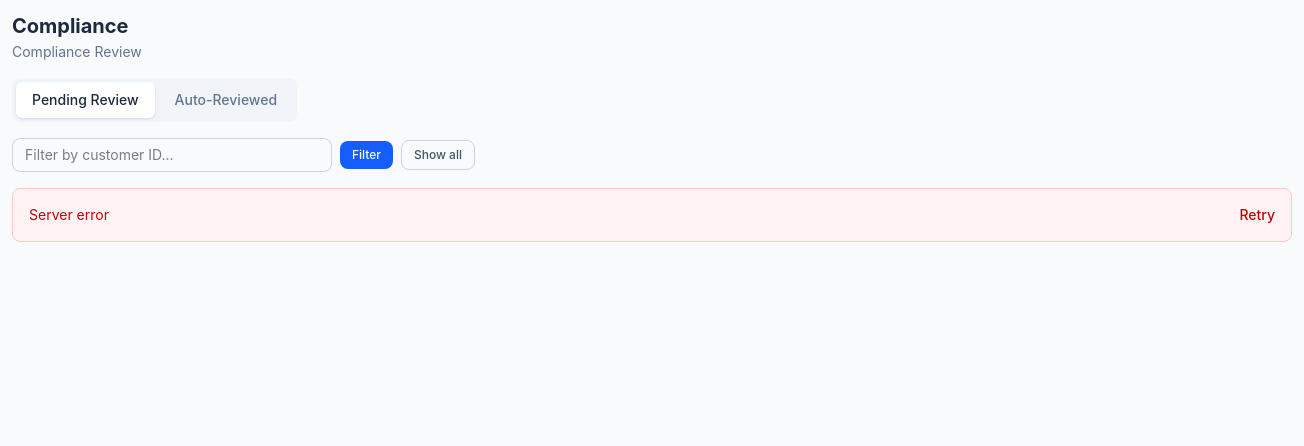
Test: CompliancePage › retry re-fetches after error
Expected: the text "Server error" is shown, [29,205,109,225]
Click the button "Retry" at (1257, 215), box [1239,205,1275,225]
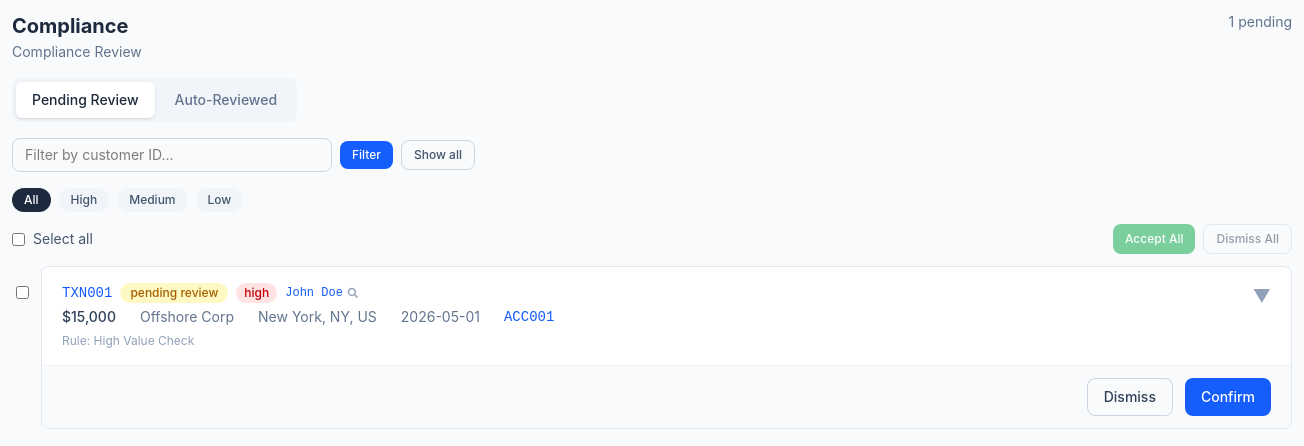
Now the link "TXN001" is shown, box [62,283,112,303]
